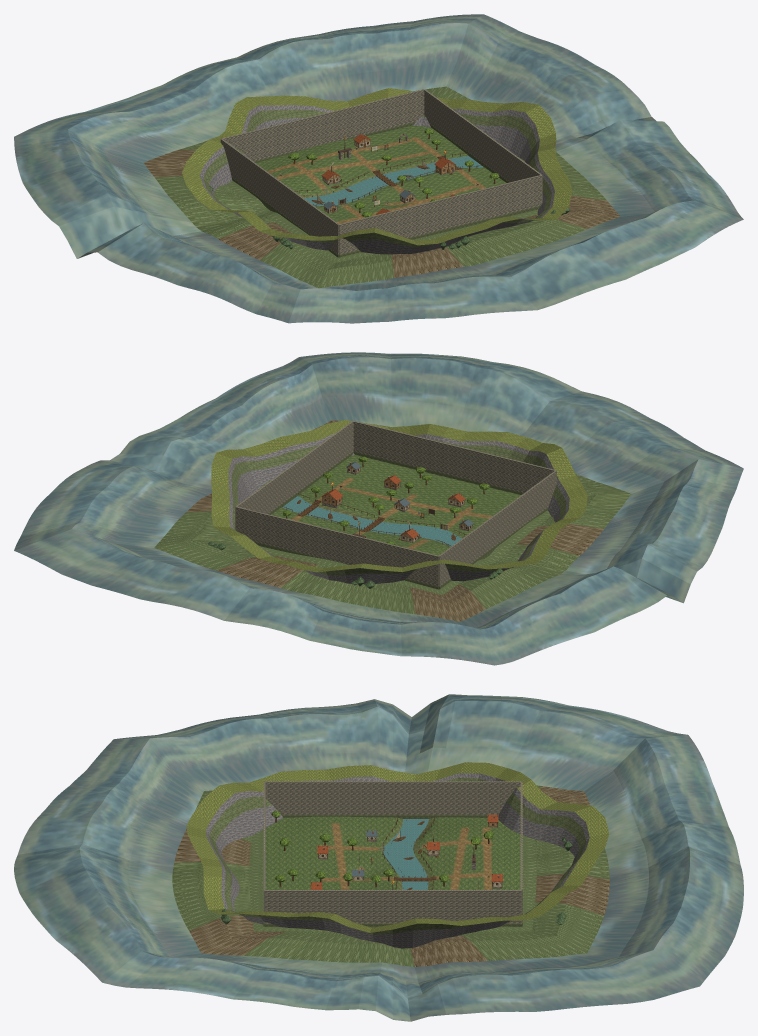
Rendered from SillwaterFlood.fbx.
The picture shows the model from 3 angles, top to bottom: view 1: azimuth 30°, elevation 25°; view 2: azimuth 150°, elevation 25°; view 3: azimuth 270°, elevation 25°; orthographic projection. The views are drawn at different scales.
Parts seen in each view (by area): view 1: Surroundings, C_Solids, Horizon, Terrain, Set, Waterline, Rim; view 2: Surroundings, C_Solids, Horizon, Terrain, Set, Waterline, Rim; view 3: Surroundings, Horizon, C_Solids, Terrain, Set, Waterline, Rim.
Boxes of the visible parts, box(x1,y1,x2,y2) form: Surroundings: box(14, 14, 743, 323); C_Solids: box(220, 89, 542, 254); Horizon: box(182, 88, 572, 254); Terrain: box(256, 125, 506, 223); Set: box(279, 129, 499, 217); Waterline: box(304, 156, 483, 206); Rim: box(231, 122, 540, 257); Surroundings: box(14, 352, 743, 665); C_Solids: box(235, 421, 556, 586); Horizon: box(211, 420, 587, 583); Terrain: box(271, 455, 521, 555); Set: box(281, 456, 490, 546); Waterline: box(282, 496, 461, 546); Rim: box(254, 451, 548, 589); Surroundings: box(14, 694, 743, 1021); Horizon: box(186, 762, 609, 948); C_Solids: box(263, 781, 522, 923); Terrain: box(265, 816, 520, 889); Set: box(271, 810, 502, 889); Waterline: box(383, 819, 428, 889); Rim: box(263, 815, 522, 927).
Size of the model in its own units: 34489 by 2640 by 34345.
